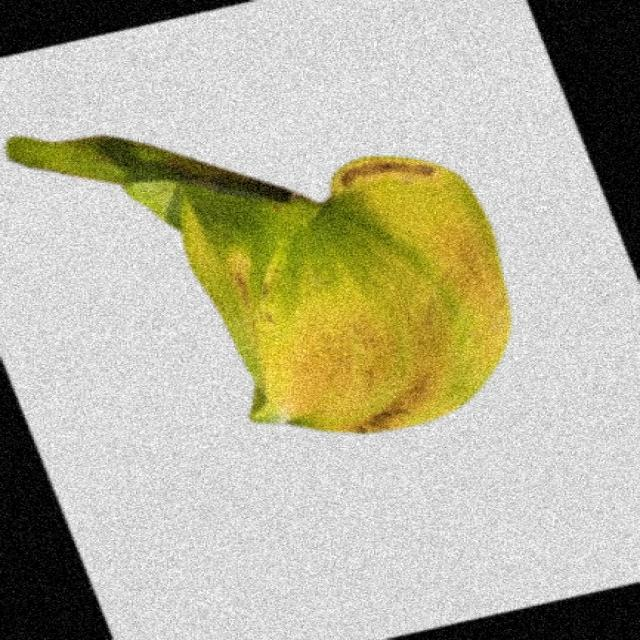daun berpenyakit karat: (7, 137, 510, 434)
